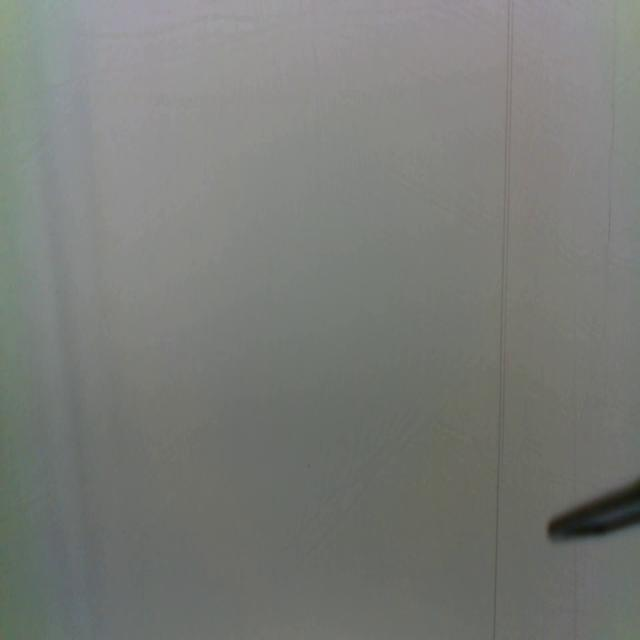crease: (492, 0, 516, 639), (606, 56, 618, 253), (568, 364, 579, 505), (572, 542, 580, 637)
